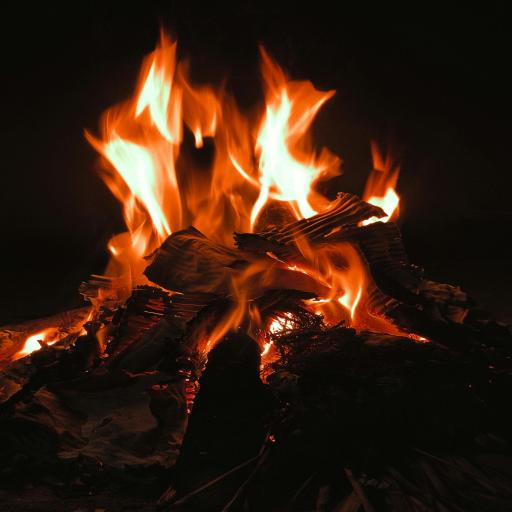campfire: (0, 36, 512, 512)
